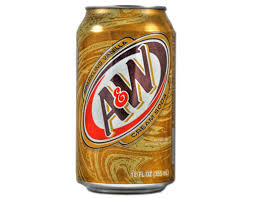can: (72, 4, 179, 195)
